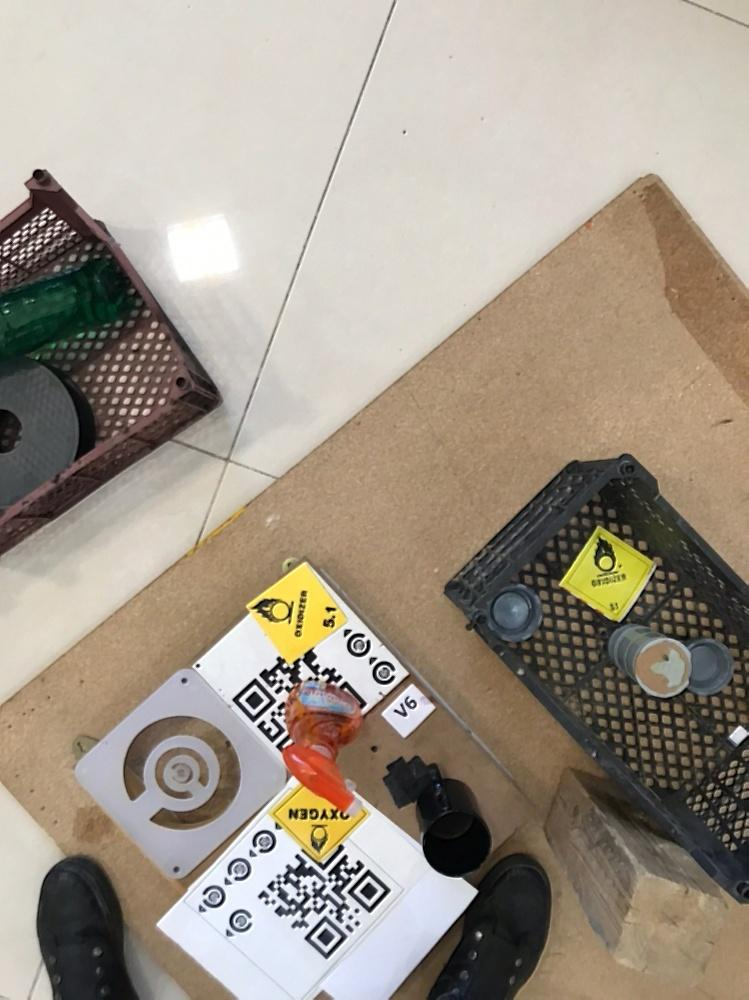oxidizer: (244, 565, 347, 663), (561, 528, 654, 622), (273, 781, 370, 860)
